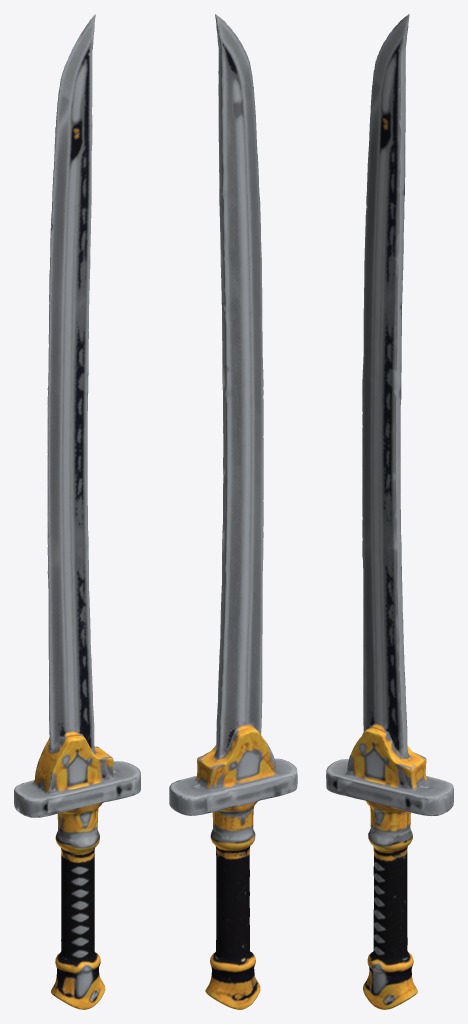
Rendered from kage_blade.glb.
3 renders of one model, left to right at view 1: azimuth 30°, elevation 25°; view 2: azimuth 210°, elevation 25°; view 3: azimuth 330°, elevation 25°, orthographic.
Size of the model in its own units: 0.2374 by 1.9 by 0.0835.
1 material, 1 textured.
